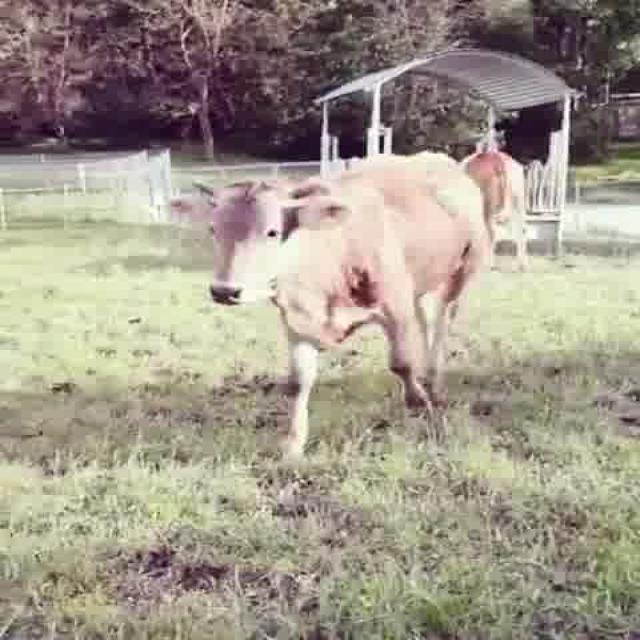cowFace: (154, 172, 350, 314)
